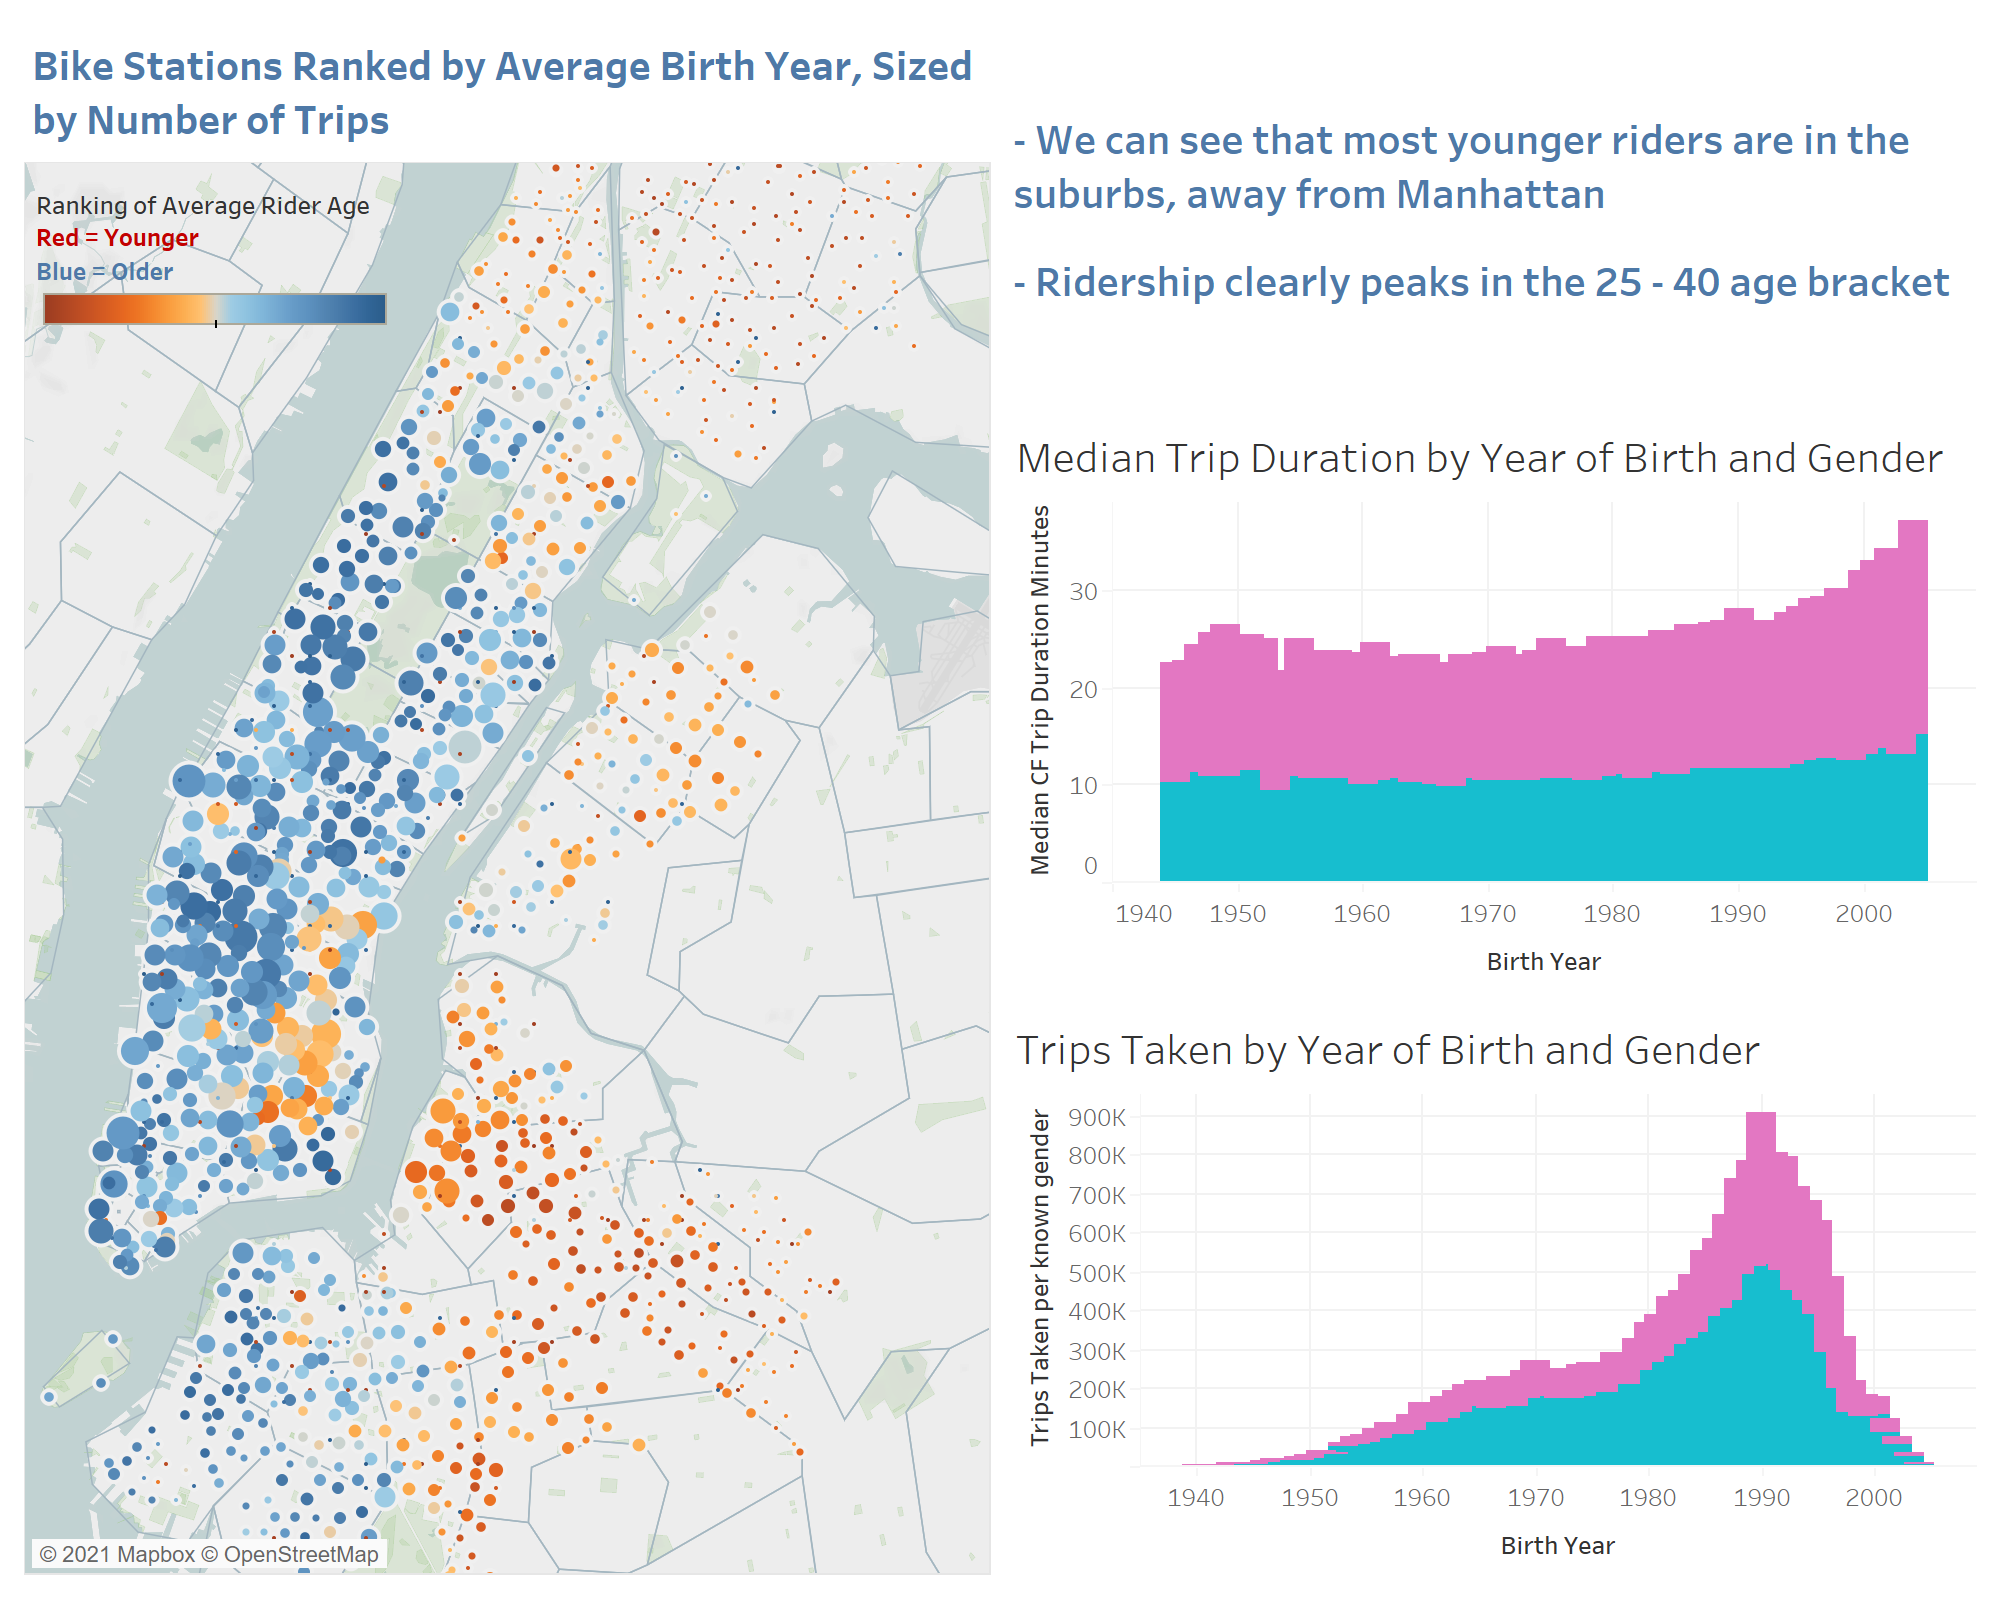

The dashboard page shown, as its layout file describes it:
{"tool":"tableau","page":{"name":"Demographic Analysis","canvas":[1000,800],"ordinal":0},"visuals":[{"type":"worksheet","title":"Demographics - Bike Stations Ranked by Avg Birth Year, Sized by Number of  Trips","mark":"Circle","rows":["Start Station Latitude"],"cols":["Start Station Longitude"],"box":[8,8,492,784]},{"type":"text","box":[500,8,492,196]},{"type":"legend","title":"Demographics - Bike Stations Ranked by Avg Birth Year, Sized by Number of  Trips","param":"[federated.03l54cg1rz8a6t15xwi4j1t894sv].[rank:avg:Birth Year:qk]","box":[18,90,180,75]},{"type":"worksheet","title":"Demographics - Median Trip Duration by Age","mark":"Bar","rows":["Calculation_89509104949153792"],"cols":["Birth Year"],"box":[500,204,492,296]},{"type":"worksheet","title":"Demographics - Number of Trips Taken by Age","mark":"Bar","rows":["Gender"],"cols":["Birth Year"],"box":[500,500,492,292]}]}

Visuals, with their boxes in screenshot pixels (x1, y1, x2, y2), scaled from the page's 1000x800 canvas onto the 2000x1600 screenshot:
"Demographics - Bike Stations Ranked by Avg Birth Year, Sized by Number of  Trips" worksheet (Circle marks): 16/16/1000/1584
text: 1000/16/1984/408
"Demographics - Bike Stations Ranked by Avg Birth Year, Sized by Number of  Trips" legend: 36/180/396/330
"Demographics - Median Trip Duration by Age" worksheet (Bar marks): 1000/408/1984/1000
"Demographics - Number of Trips Taken by Age" worksheet (Bar marks): 1000/1000/1984/1584
